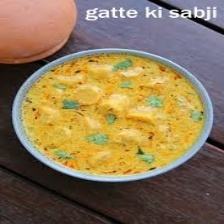dal: (17, 48, 210, 179)
